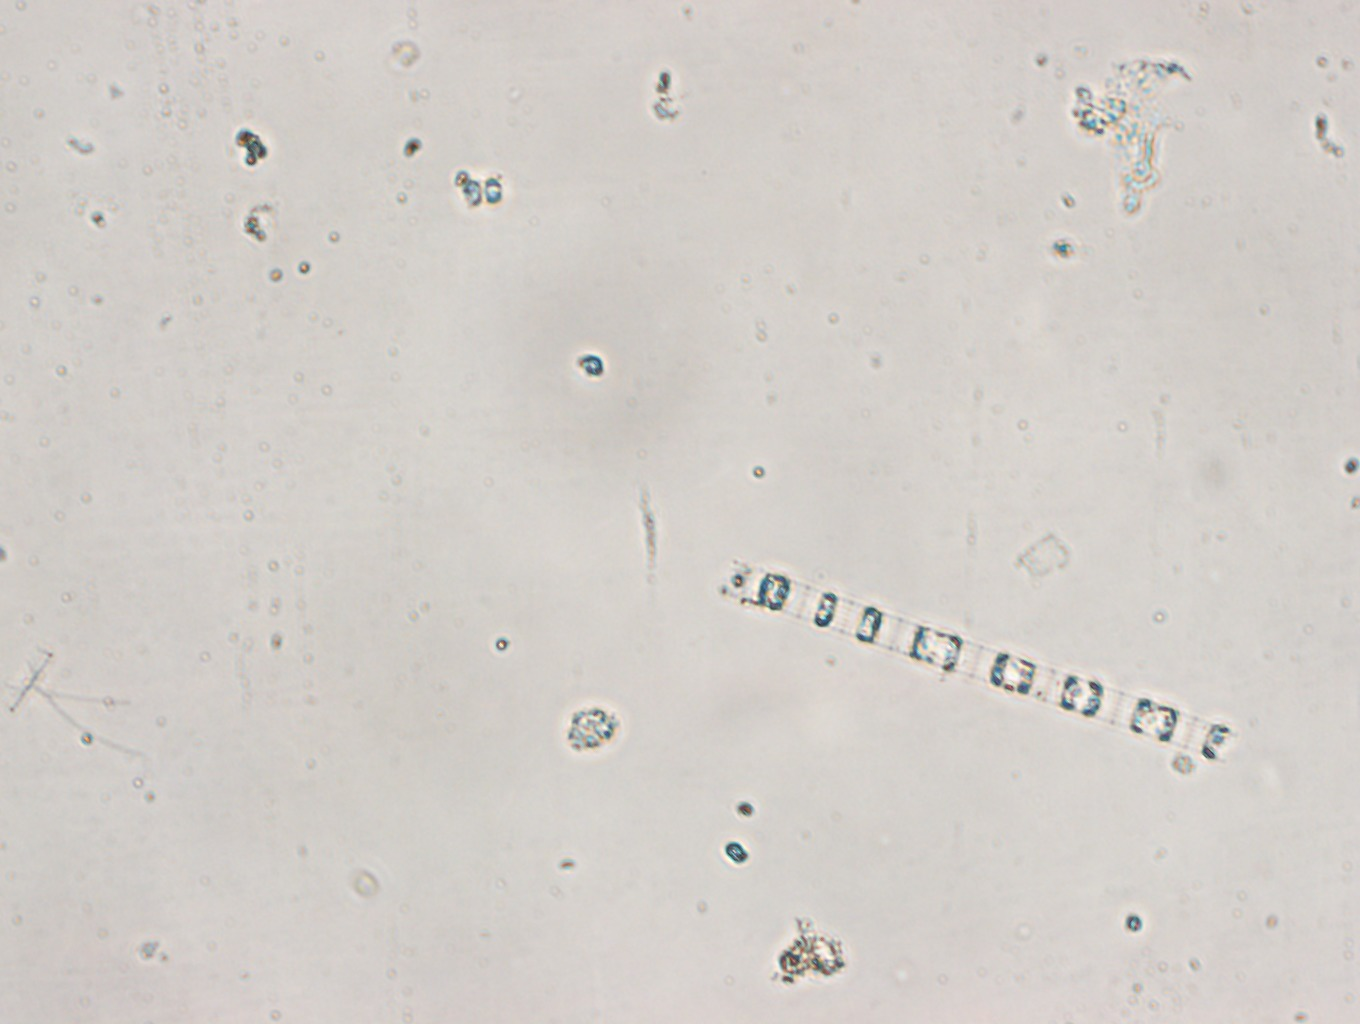skeletonema: (711, 555, 1241, 763)
